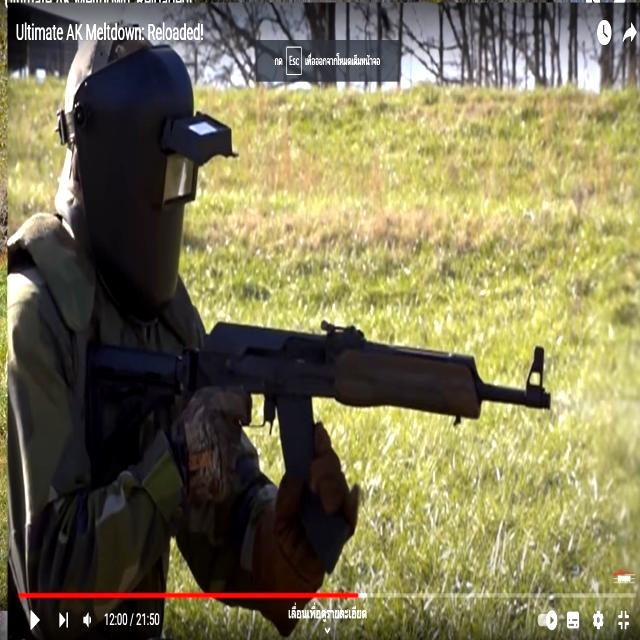ak: (76, 296, 558, 575)
